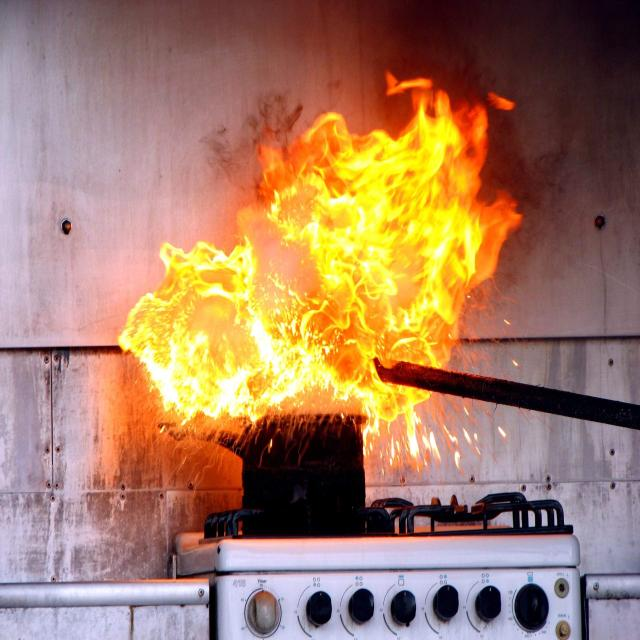fire: (122, 74, 518, 433)
